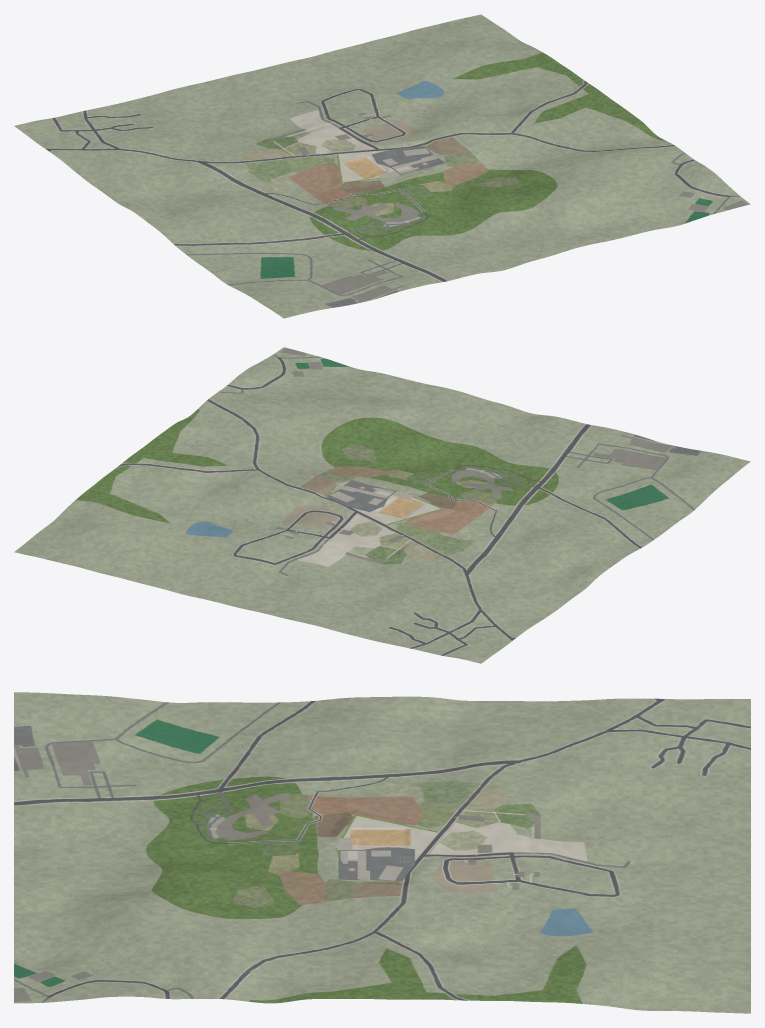
3 renders of one model, top to bottom at view 1: azimuth 30°, elevation 25°; view 2: azimuth 150°, elevation 25°; view 3: azimuth 270°, elevation 25°, orthographic. The views are drawn at different scales.
Visible parts, largest first — view 1: ground-area, ground-school; view 2: ground-area, ground-school; view 3: ground-area, ground-school.
Boxes of the visible parts, x1=… form: ground-area: x1=14, y1=14, x2=750, y2=318; ground-school: x1=293, y1=130, x2=465, y2=196; ground-area: x1=14, y1=347, x2=750, y2=663; ground-school: x1=295, y1=473, x2=467, y2=539; ground-area: x1=14, y1=692, x2=750, y2=1013; ground-school: x1=317, y1=808, x2=458, y2=890.
Size of the model in its own units: 1088 by 32.33 by 1088.
Materials: 2 (2 with a texture image).
